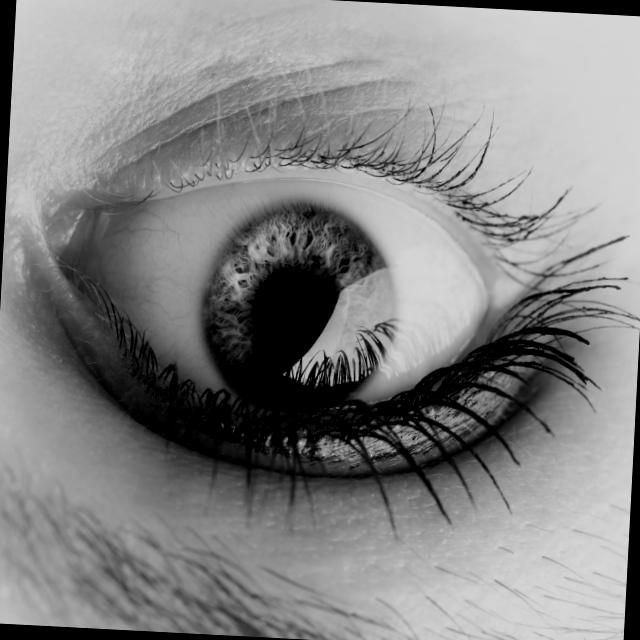Normal: (20, 103, 635, 517)
